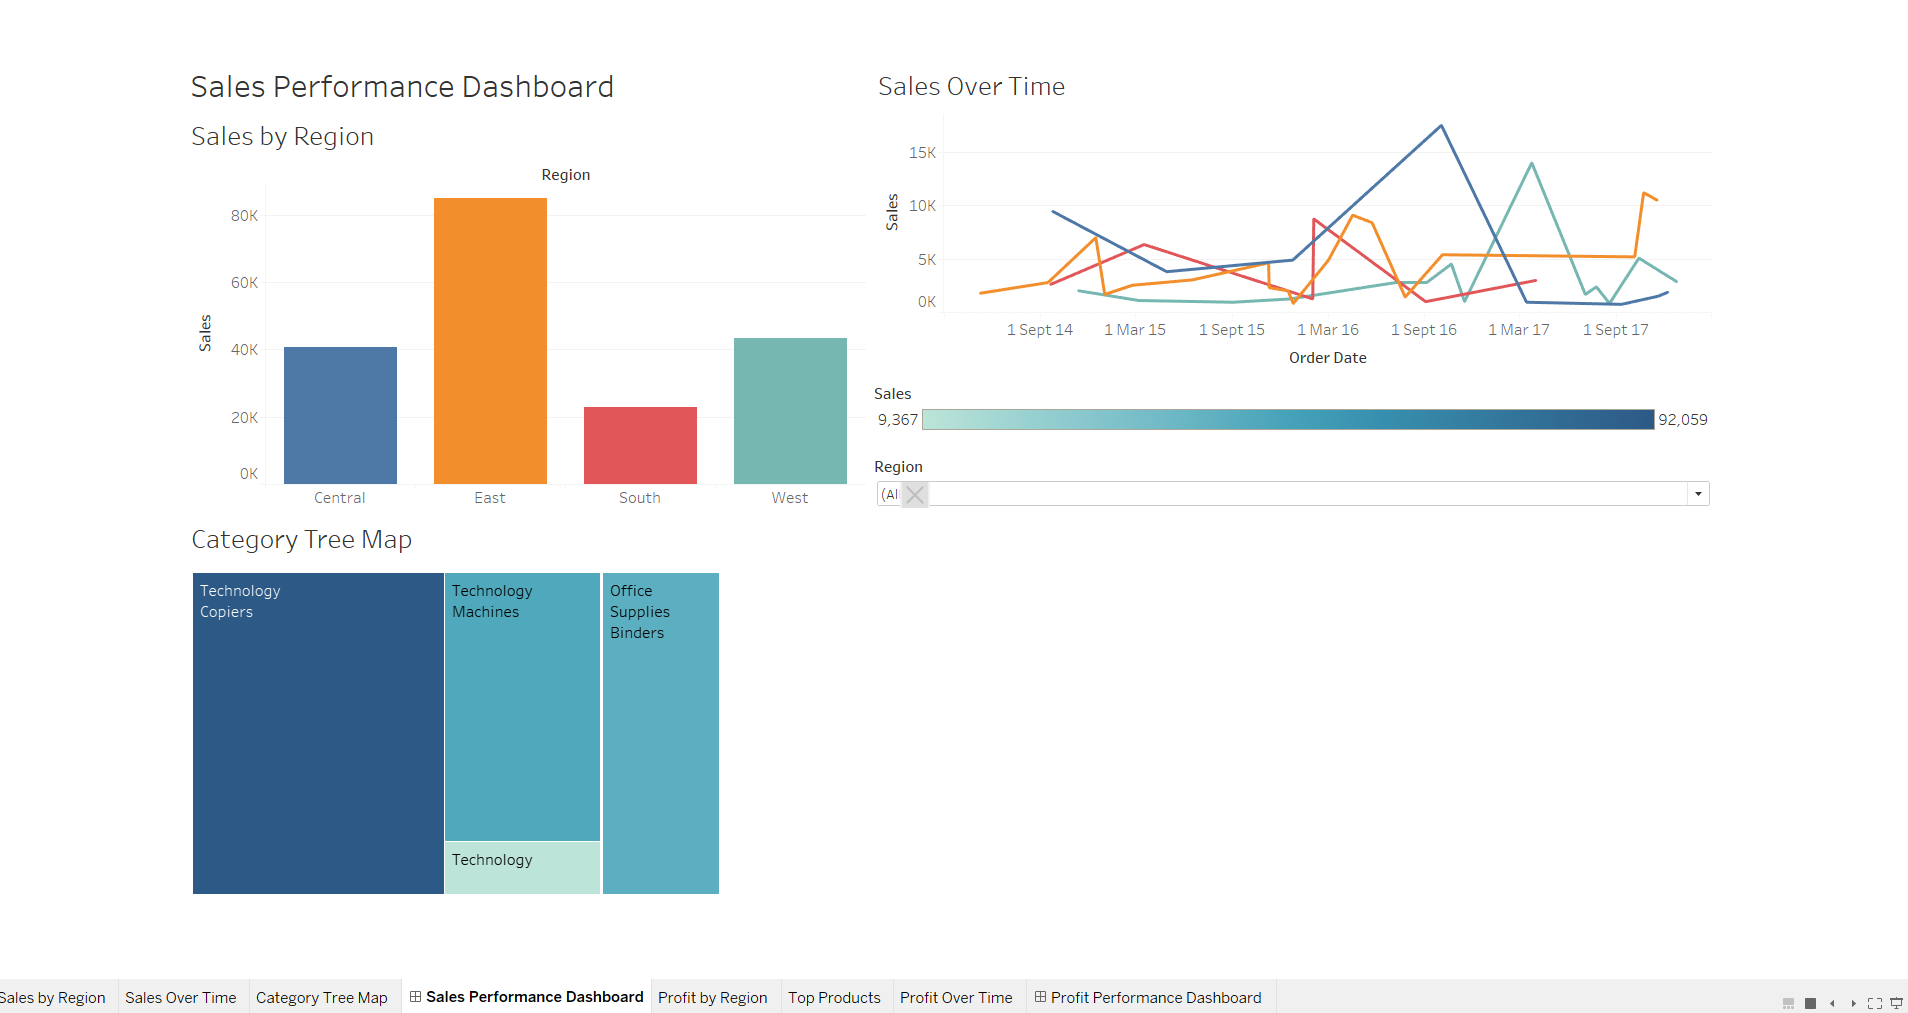

Layout of this report page (visuals, bound fields, positions):
{"tool":"tableau","page":{"name":"Sales Performance Dashboard","canvas":[1000,1000],"units":"permille","ordinal":1},"visuals":[{"type":"title","box":[5.2,10,443.2,62.4]},{"type":"worksheet","title":"Sales Over Time","mark":"Automatic","rows":["Sales"],"cols":["Order Date"],"box":[448.4,10,546.5,359.1]},{"type":"worksheet","title":"Sales by Region","mark":"Automatic","rows":["Sales"],"cols":["Region"],"box":[5.2,72.3,443.2,463.8]},{"type":"legend","title":"Category Tree Map","param":"[federated.14hjw1g11ffnsq1f6kn9u19j87cg].[sum:Sales:qk]","box":[448.4,369.1,546.5,91]},{"type":"filter","title":"Sales by Region","param":"[federated.14hjw1g11ffnsq1f6kn9u19j87cg].[none:Region:nk]","box":[448.4,460.1,546.5,76.1]},{"type":"dashboard-object","box":[468,500,19.2,29.9]},{"type":"worksheet","title":"Category Tree Map","mark":"Automatic","box":[5.2,536.1,989.7,453.9]}]}

Visuals, with their boxes on the dashboard's canvas, which has no fixed pixel size, in thousandths of its width and height (x1, y1, x2, y2). These are canvas units, not pixel positions in the 1908x1013 screenshot, which may show the page scaled, cropped or inside an application window:
title: detection(5, 10, 448, 72)
"Sales Over Time" worksheet: detection(448, 10, 995, 369)
"Sales by Region" worksheet: detection(5, 72, 448, 536)
"Category Tree Map" legend: detection(448, 369, 995, 460)
"Sales by Region" filter: detection(448, 460, 995, 536)
dashboard-object: detection(468, 500, 487, 530)
"Category Tree Map" worksheet: detection(5, 536, 995, 990)
